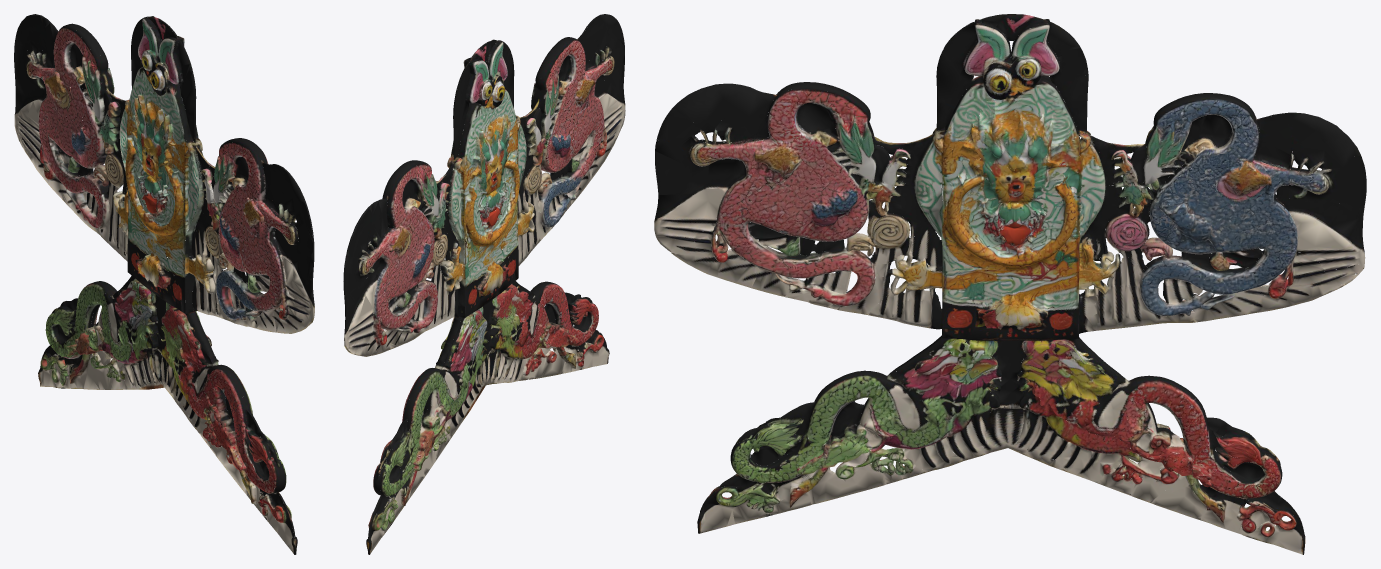
The model's file is 风筝完成品.glb.
3 views of the same model, side by side, from view 1: azimuth 30°, elevation 25°; view 2: azimuth 150°, elevation 25°; view 3: azimuth 270°, elevation 25° (orthographic). The views are drawn at different scales.
Parts seen in each view (by area): view 1: tripo_node_0f9327c5-7c2c-4af7-be0c-59d047eaf2af; view 2: tripo_node_0f9327c5-7c2c-4af7-be0c-59d047eaf2af; view 3: tripo_node_0f9327c5-7c2c-4af7-be0c-59d047eaf2af.
Part boxes in pixels (x1=…): tripo_node_0f9327c5-7c2c-4af7-be0c-59d047eaf2af: x1=14, y1=14, x2=314, y2=554; tripo_node_0f9327c5-7c2c-4af7-be0c-59d047eaf2af: x1=343, y1=14, x2=625, y2=554; tripo_node_0f9327c5-7c2c-4af7-be0c-59d047eaf2af: x1=654, y1=14, x2=1366, y2=554.
Size of the model in its own units: 0.0598 by 0.835 by 0.9981.
1 material, 1 textured.
